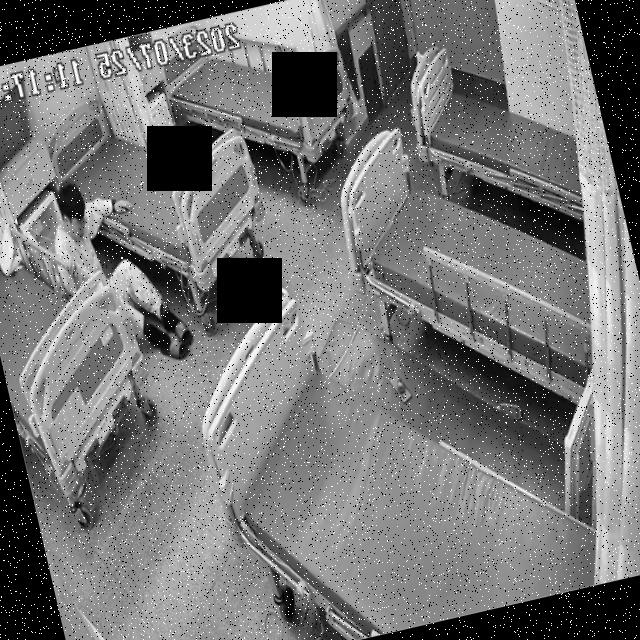bed: (186, 249, 608, 640), (326, 96, 620, 435), (0, 187, 166, 503), (43, 74, 275, 296), (396, 19, 594, 248), (158, 8, 358, 188)
fall: (38, 156, 198, 384)
patient: (36, 156, 198, 381)
